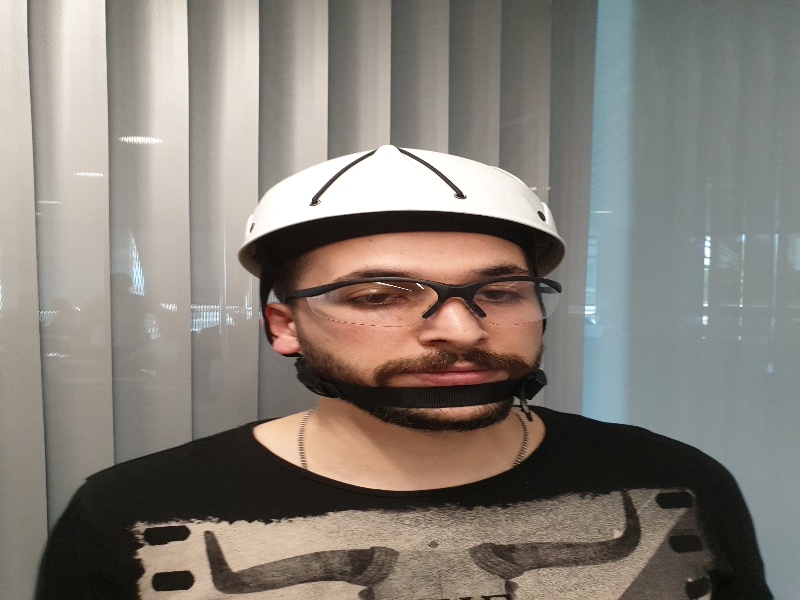Baret: (240, 144, 566, 257)
Gozluk: (271, 274, 564, 329)
